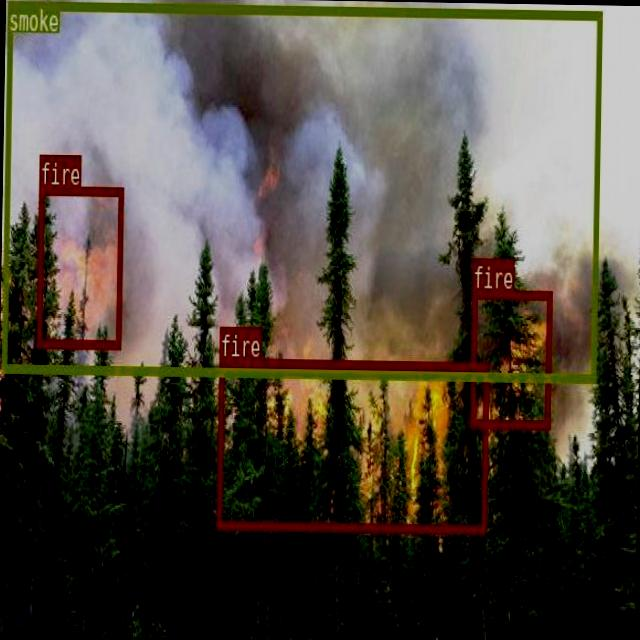fire: (216, 356, 488, 534), (35, 185, 122, 348), (469, 288, 550, 426)
smoke: (1, 0, 601, 381)
